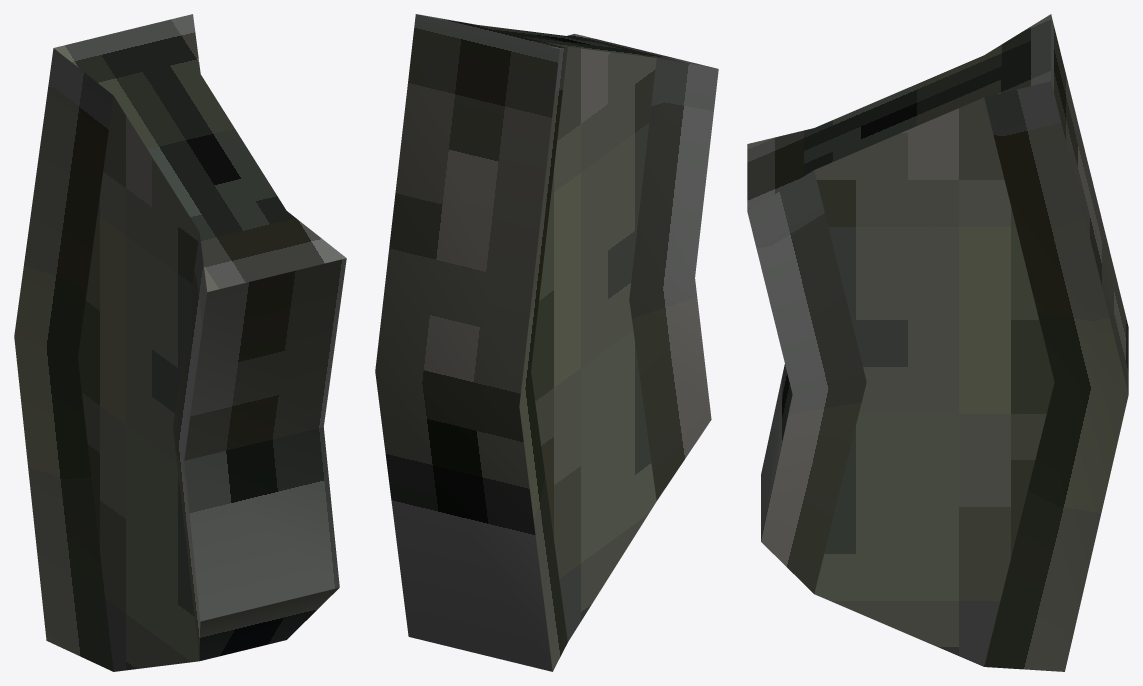
The model's file is eqp_comp_weapon_powerpack_s01_l2.fbx.
3 views of the same model, side by side, from view 1: azimuth 30°, elevation 25°; view 2: azimuth 150°, elevation 25°; view 3: azimuth 270°, elevation 25° (orthographic). The views are drawn at different scales.
Visible parts, largest first — view 1: mesh_node; view 2: mesh_node; view 3: mesh_node.
Part boxes in pixels (left/top/right/bottom): mesh_node: left=14, top=14, right=346, bottom=671; mesh_node: left=375, top=14, right=718, bottom=671; mesh_node: left=747, top=14, right=1128, bottom=671.
Size of the model in its own units: 0.0242 by 0.1005 by 0.0581.
